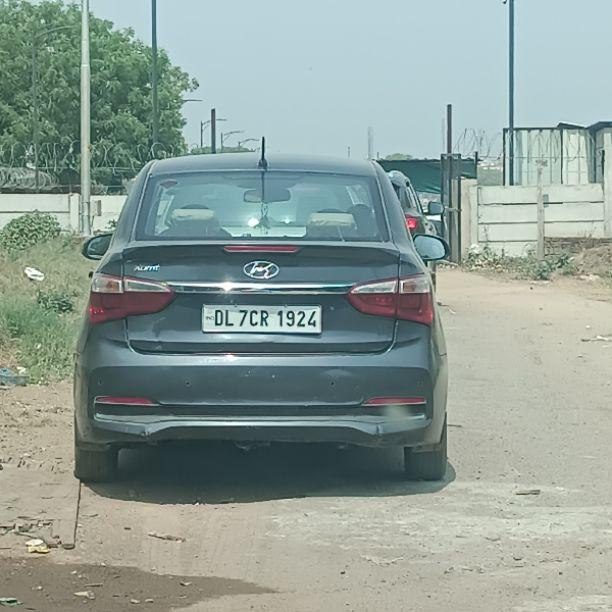license_plate: (200, 302, 322, 334)
